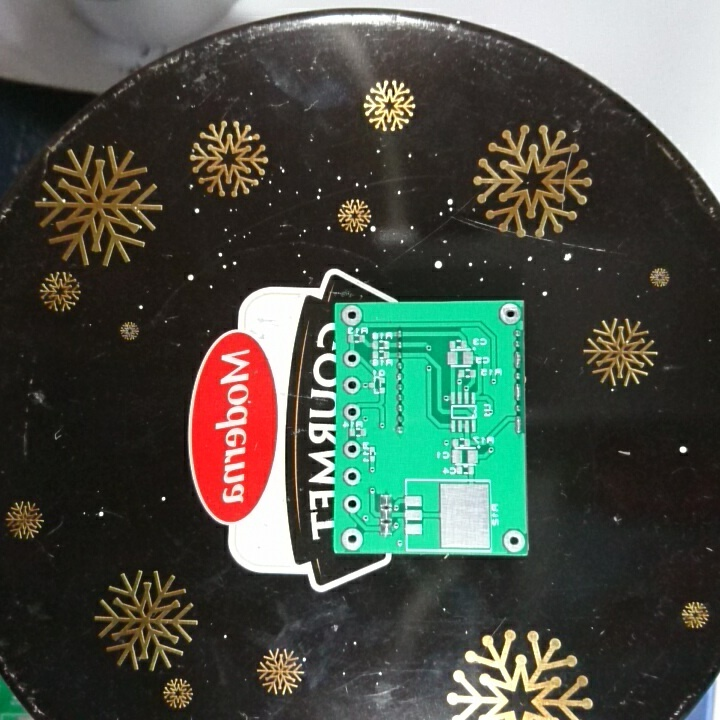F: (499, 527, 526, 553), (339, 303, 365, 329), (497, 300, 522, 327), (339, 526, 365, 549), (340, 493, 363, 516), (340, 375, 362, 397), (340, 348, 362, 369), (342, 466, 363, 488), (342, 439, 362, 461), (342, 401, 362, 421)
P: (511, 349, 523, 372), (511, 381, 523, 403), (511, 415, 524, 435)
